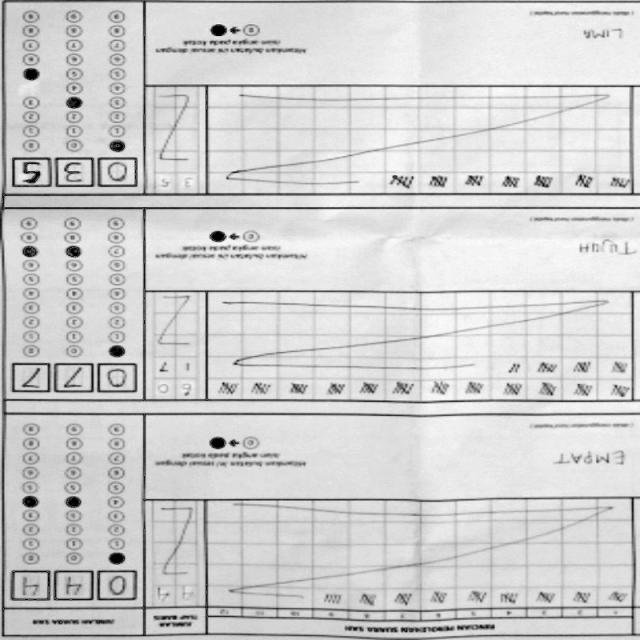Suara: (7, 562, 138, 605), (5, 356, 139, 395), (7, 152, 138, 186)
